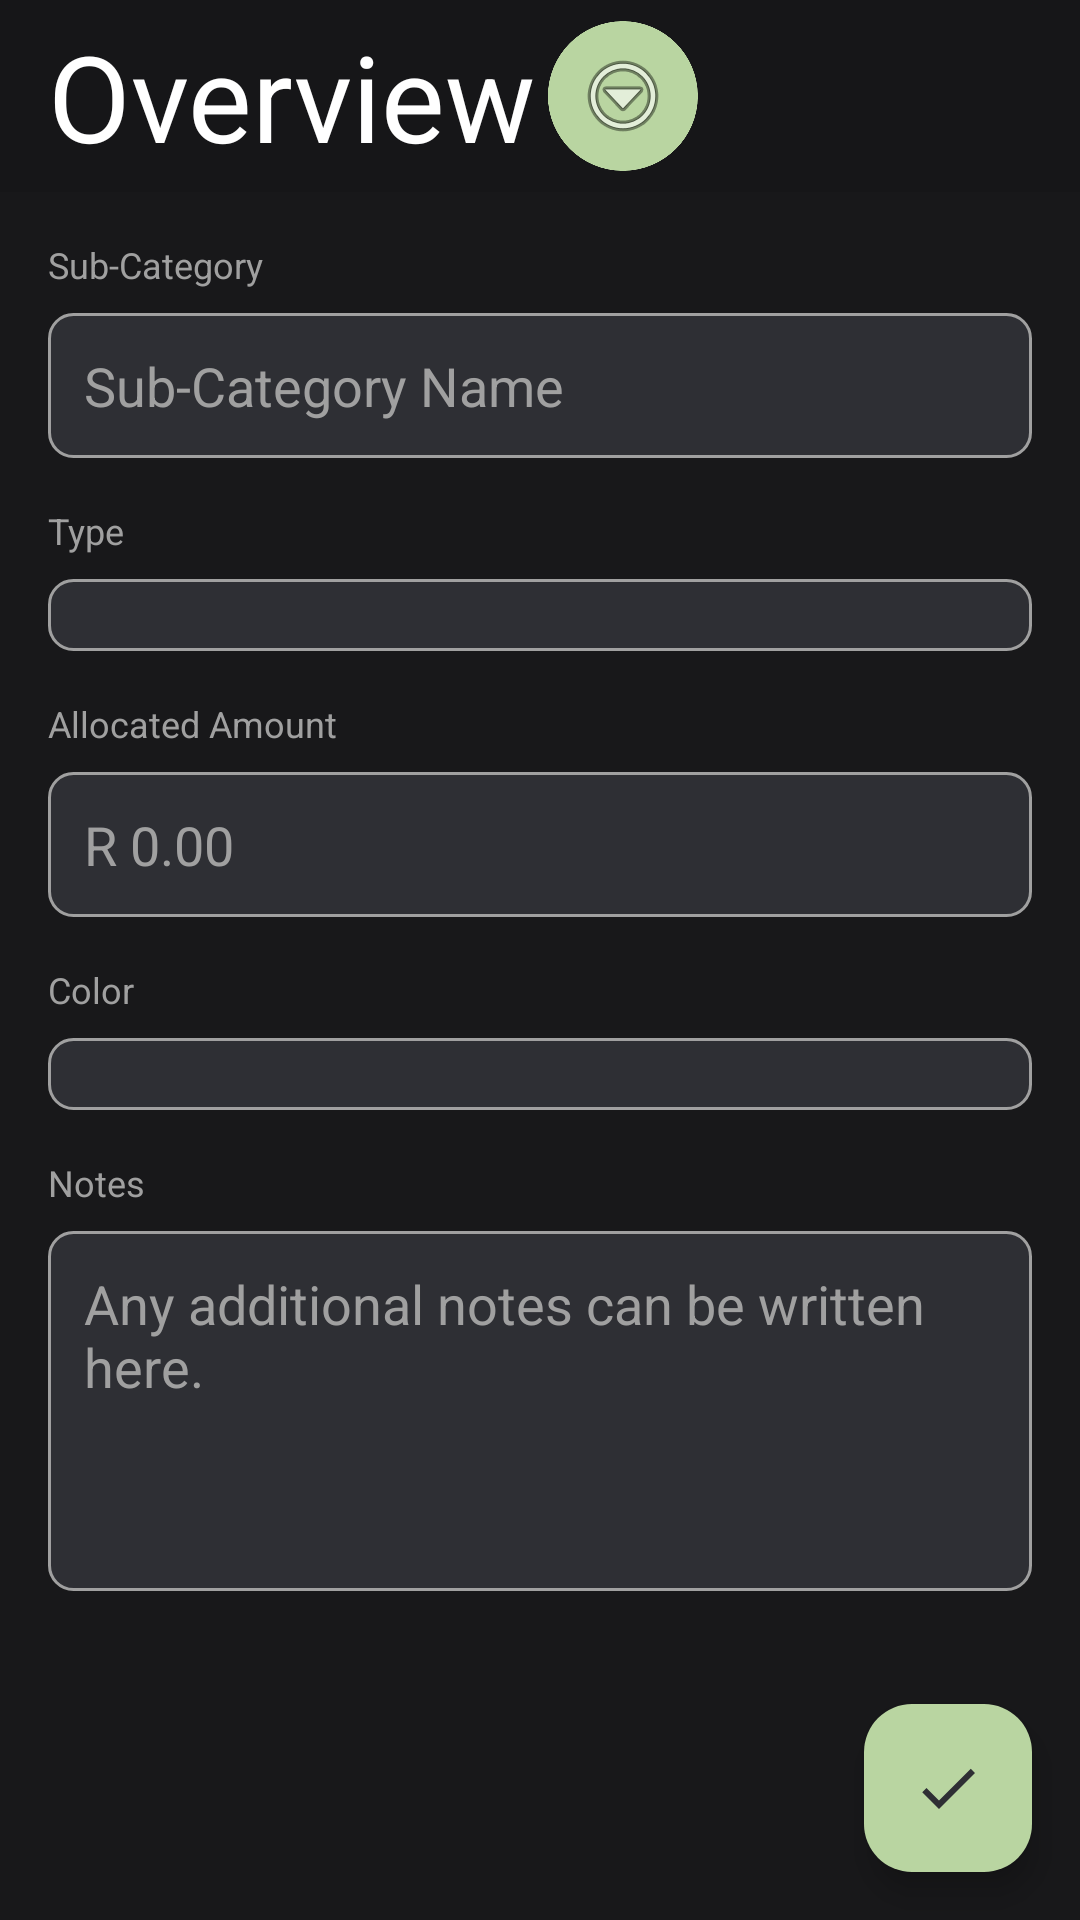

Locate icon controls on the screen. Image size 1080 × 1920, boxes as detection(x1, y1, x2, y2).
Menu button: detection(548, 21, 698, 171)
Save: detection(864, 1704, 1032, 1872)
